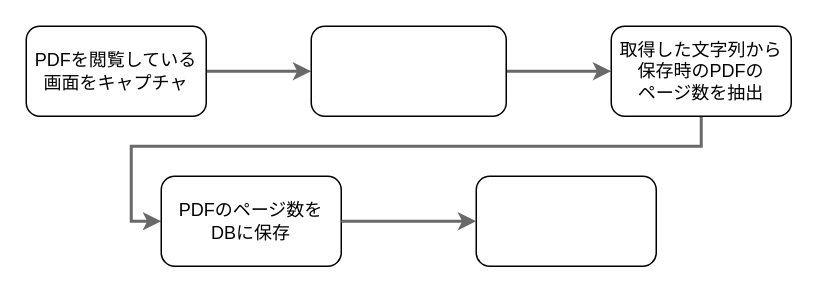
Image size: 818x293. Some labels were removed from this diagram. Each missing label, with the centre of its shape:
OCRで画面キャプチャ から文字列を取得: point 408,70
ブックマークのURLフラグメントにPDFのページ数を付与: point 565,220
